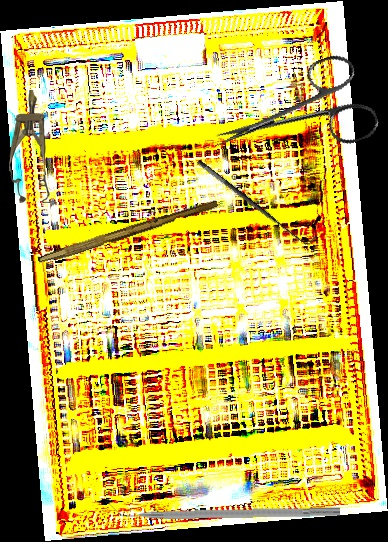Chopper: (107, 494, 341, 521)
Hook Surgical: (195, 150, 317, 252)
Iris Scissors: (202, 48, 383, 185)
Scalpel Handle: (37, 195, 219, 270)
Speculum: (8, 89, 53, 204)
